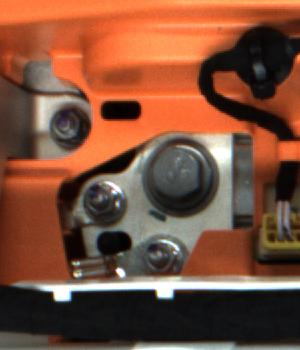nut_b: (142, 137, 228, 215)
screw_s: (76, 177, 131, 219), (42, 106, 86, 145), (142, 233, 175, 273)
